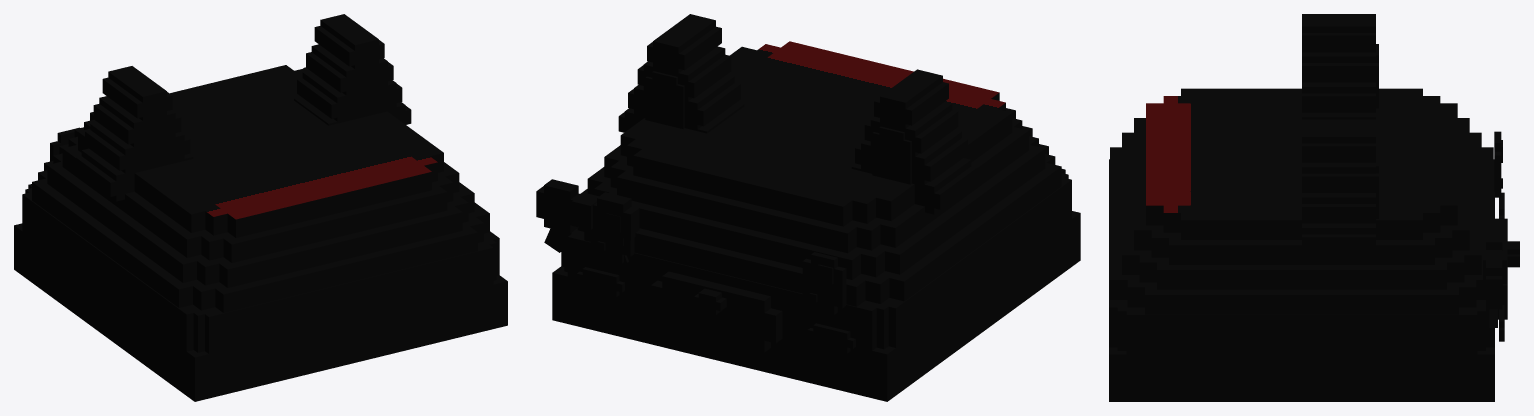
Rendered from hat_fox_ears.obj.
3 views of the same model, side by side, from view 1: azimuth 30°, elevation 25°; view 2: azimuth 150°, elevation 25°; view 3: azimuth 270°, elevation 25° (orthographic). The views are drawn at different scales.
Size of the model in its own units: 0.5734 by 0.3875 by 0.5891.
